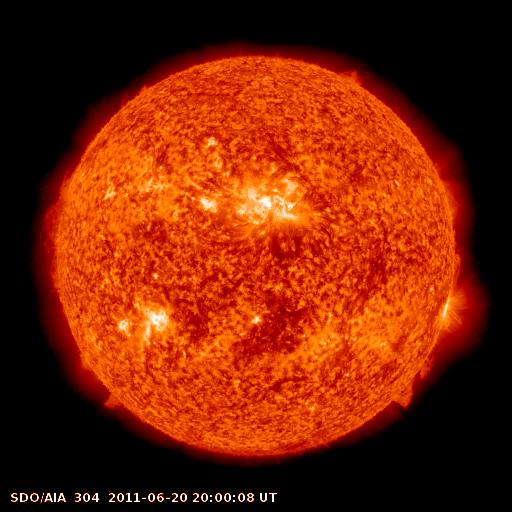prominence: (38, 167, 79, 304), (388, 344, 443, 417), (331, 56, 374, 97), (95, 387, 132, 417), (450, 248, 468, 287)
